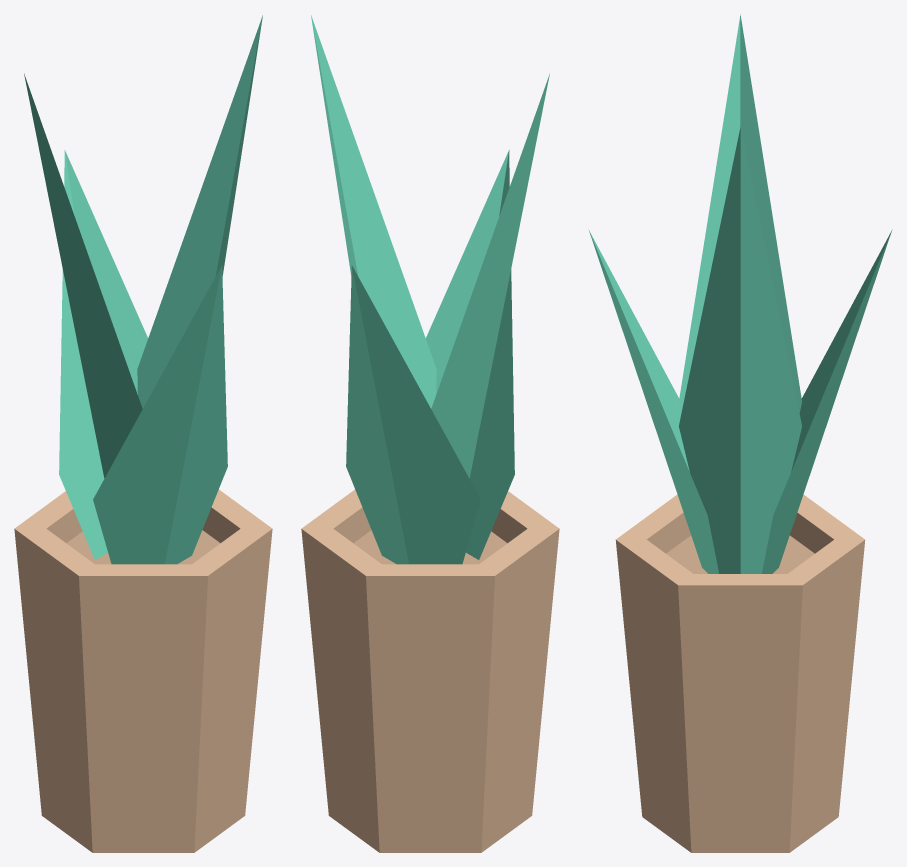
Rendered from potted-plant.glb.
3 renders of one model, left to right at view 1: azimuth 30°, elevation 25°; view 2: azimuth 150°, elevation 25°; view 3: azimuth 270°, elevation 25°, orthographic. The views are drawn at different scales.
Visible parts, largest first — view 1: Mesh0, Mesh2, Mesh1; view 2: Mesh0, Mesh2, Mesh1; view 3: Mesh0, Mesh2, Mesh1.
Part boxes in pixels (x1,y1,x2,y2): Mesh0: (14,489,272,852); Mesh2: (24,15,262,564); Mesh1: (66,530,220,564); Mesh0: (301,489,559,852); Mesh2: (311,15,549,564); Mesh1: (353,530,507,564); Mesh0: (615,494,865,852); Mesh2: (588,14,892,573); Mesh1: (666,535,814,573).
Bounding box in the file's own units: 0.2121 × 0.654 × 0.2415.
